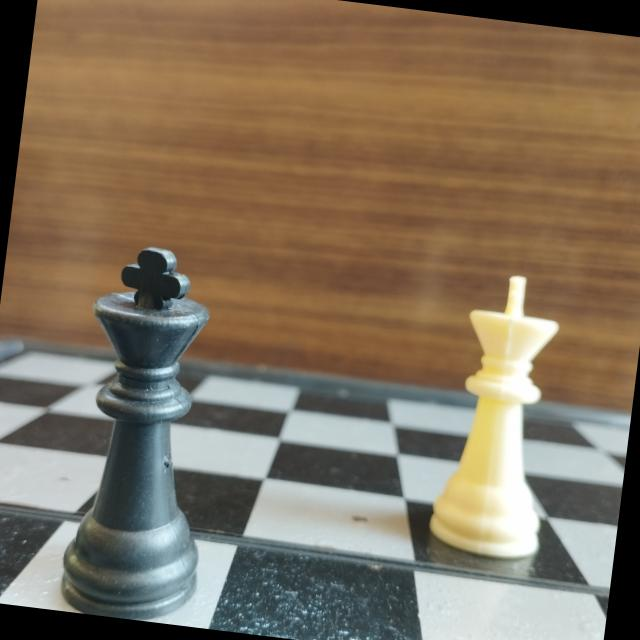Black King: (56, 235, 240, 627)
White King: (420, 253, 580, 568)
